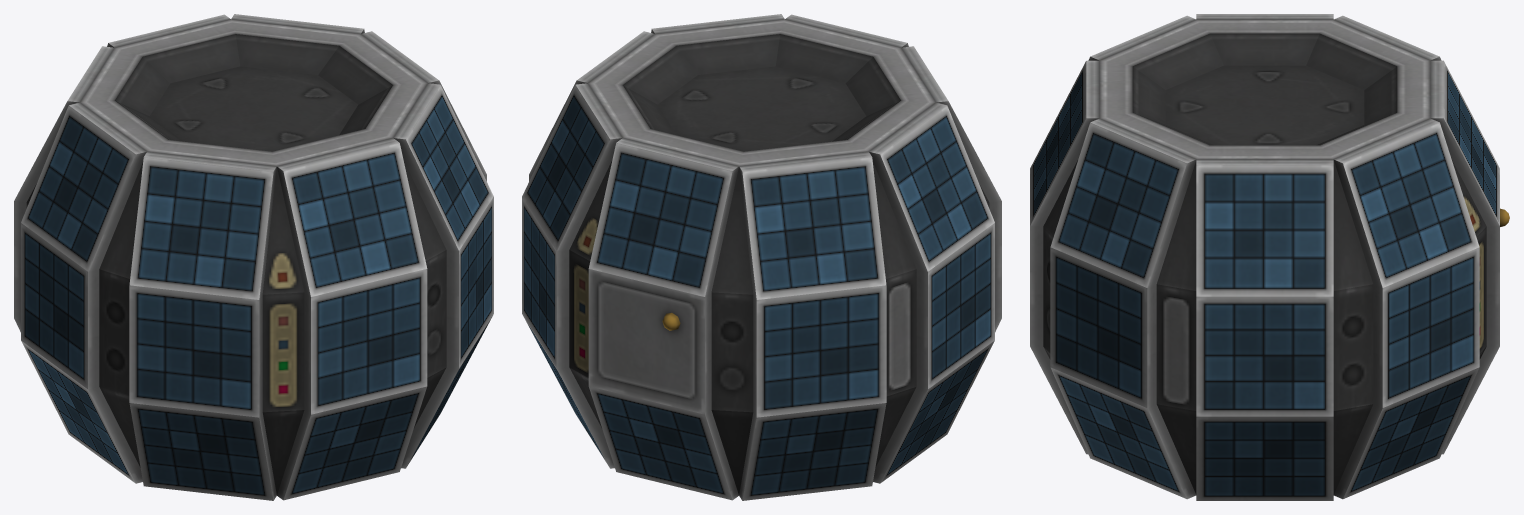
The model's file is blue_sun_probe_core_s0_1.obj.
3 views of the same model, side by side, from view 1: azimuth 30°, elevation 25°; view 2: azimuth 150°, elevation 25°; view 3: azimuth 270°, elevation 25° (orthographic). The views are drawn at different scales.
Visible parts, largest first — view 1: mesh1; view 2: mesh1; view 3: mesh1.
Part boxes in pixels (box(x1,y1,x2,y2)): mesh1: box(14, 14, 493, 500); mesh1: box(522, 14, 1001, 500); mesh1: box(1030, 14, 1499, 500).
Size of the model in its own units: 0.8875 by 0.7 by 0.9062.
1 material, 1 textured.
